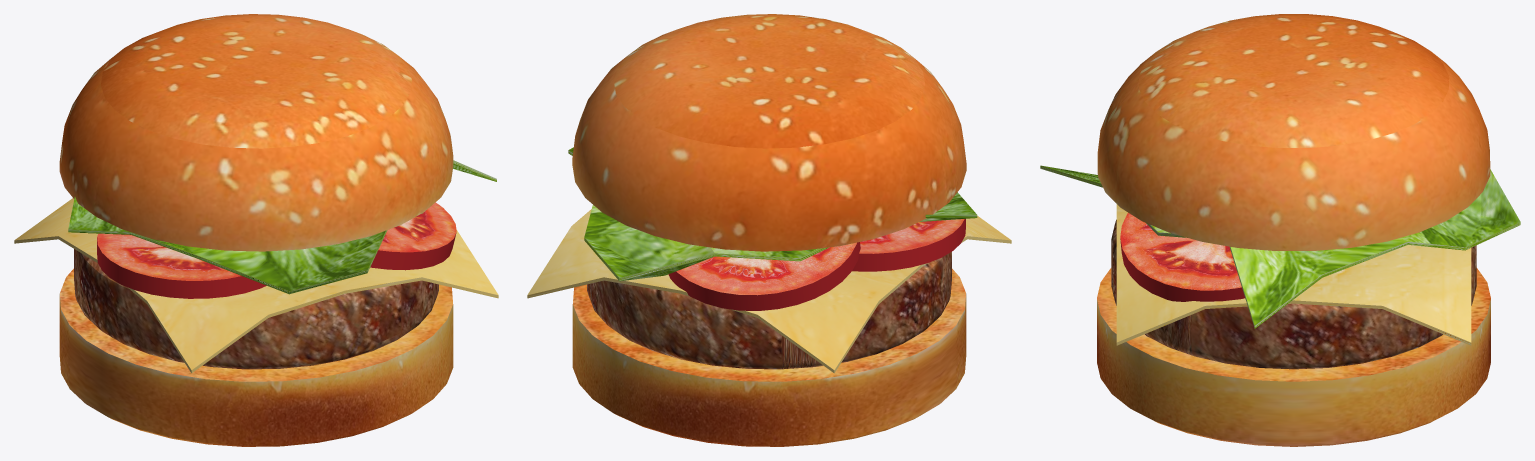
File: burger compleet We are cooked.fbx
3 views of the same model, side by side, from view 1: azimuth 30°, elevation 25°; view 2: azimuth 150°, elevation 25°; view 3: azimuth 270°, elevation 25° (orthographic).
Parts seen in each view (by area): view 1: bovenkant broodje, onderkant broodje, burger, kaas, sla, tomaat.002, tomaat.001; view 2: bovenkant broodje, onderkant broodje, burger, kaas, tomaat, sla, tomaat.002; view 3: bovenkant broodje, onderkant broodje, burger, kaas, sla, tomaat.001.
Part boxes in pixels (x1,y1,x2,y2): bovenkant broodje: (59, 14, 453, 251); onderkant broodje: (59, 268, 453, 446); burger: (74, 249, 438, 369); kaas: (14, 198, 498, 373); sla: (68, 160, 496, 294); tomaat.002: (97, 233, 266, 298); tomaat.001: (370, 202, 456, 270); bovenkant broodje: (572, 14, 966, 251); onderkant broodje: (572, 268, 966, 446); burger: (587, 252, 951, 369); kaas: (527, 209, 1011, 373); tomaat: (668, 242, 860, 310); sla: (568, 147, 977, 281); tomaat.002: (852, 219, 965, 271); bovenkant broodje: (1097, 14, 1490, 250); onderkant broodje: (1097, 268, 1490, 446); burger: (1111, 219, 1476, 369); kaas: (1116, 204, 1471, 345); sla: (1040, 165, 1520, 328); tomaat.001: (1120, 212, 1244, 301).
Size of the model in its own units: 12.26 by 8.65 by 12.18.
